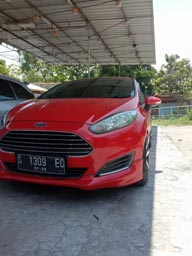plat: (16, 152, 68, 168)
